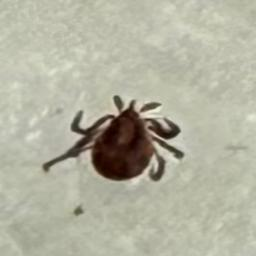Ixodes scapularis: (43, 97, 186, 182)
